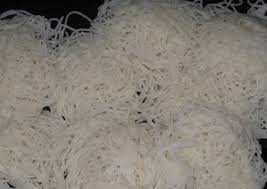idyappa: (1, 7, 267, 189)
